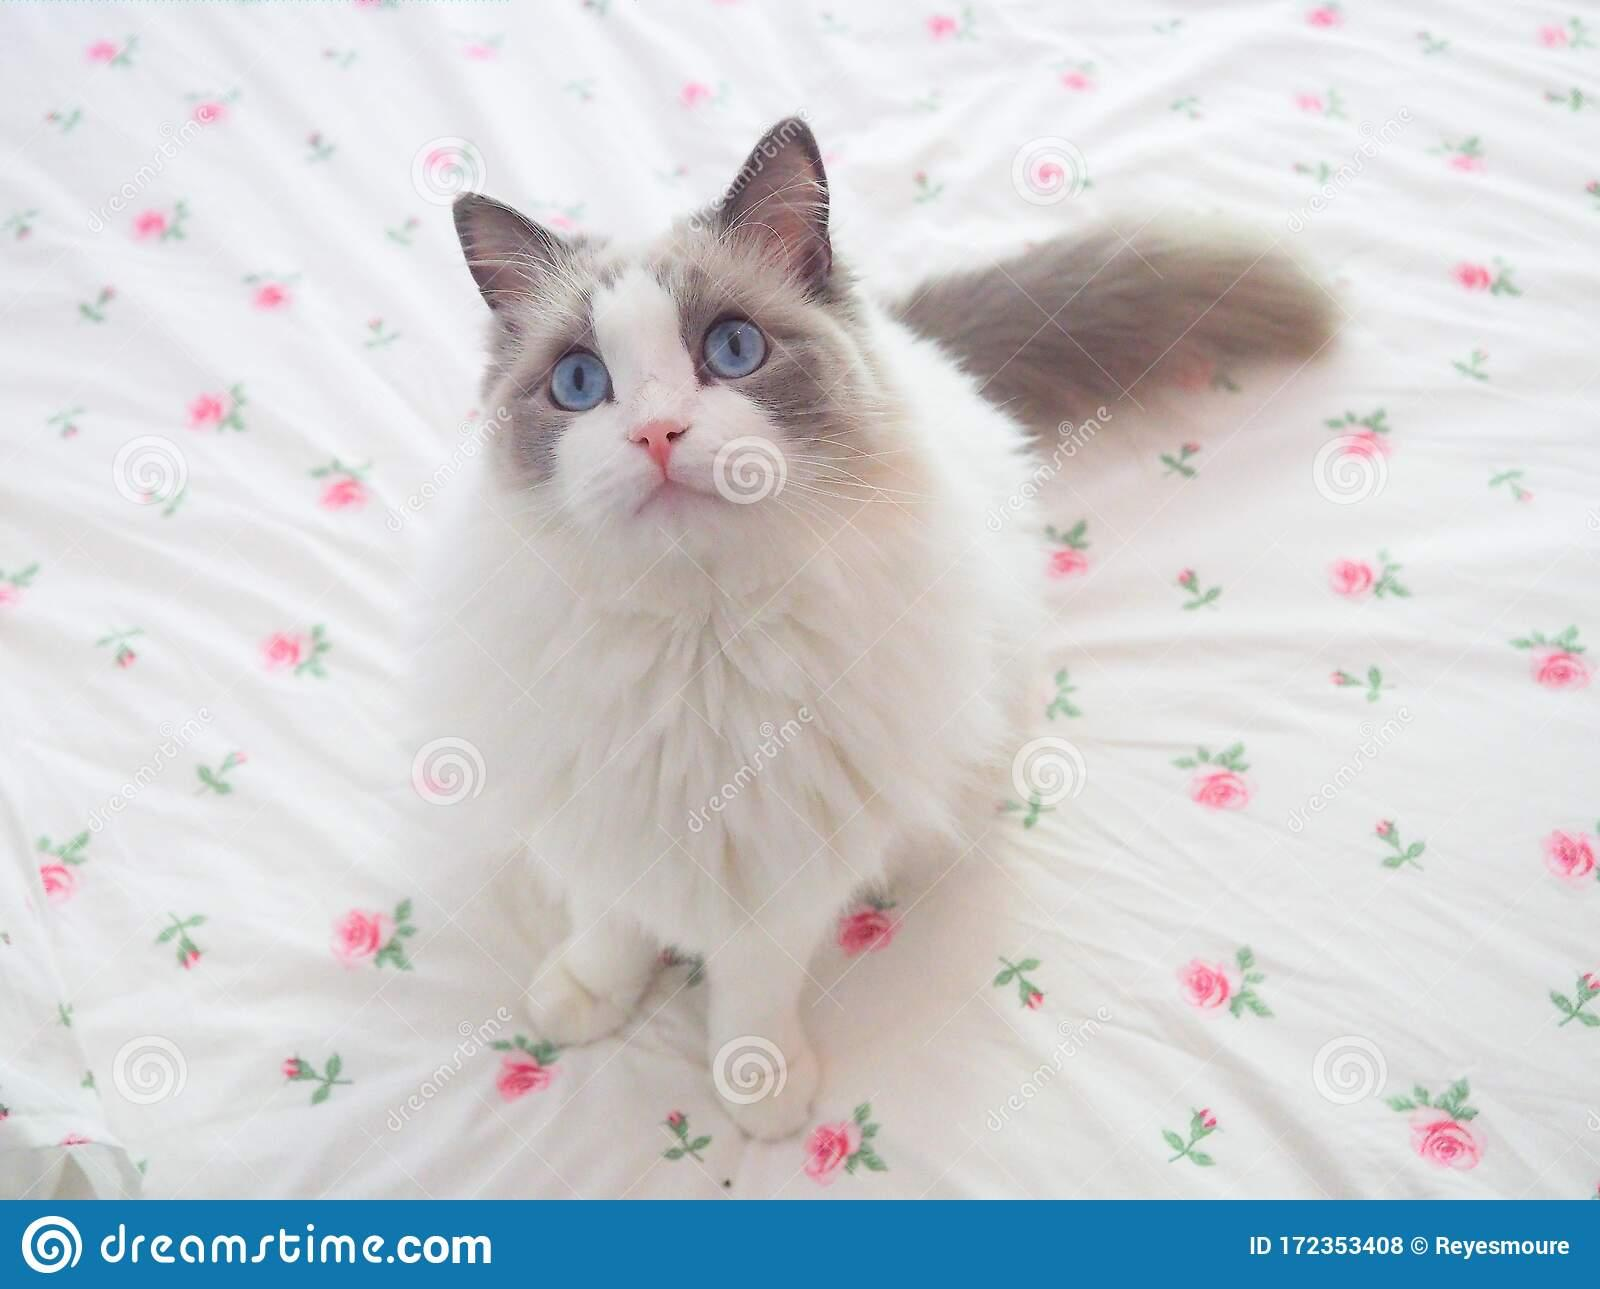ragdoll: (433, 107, 890, 597)
